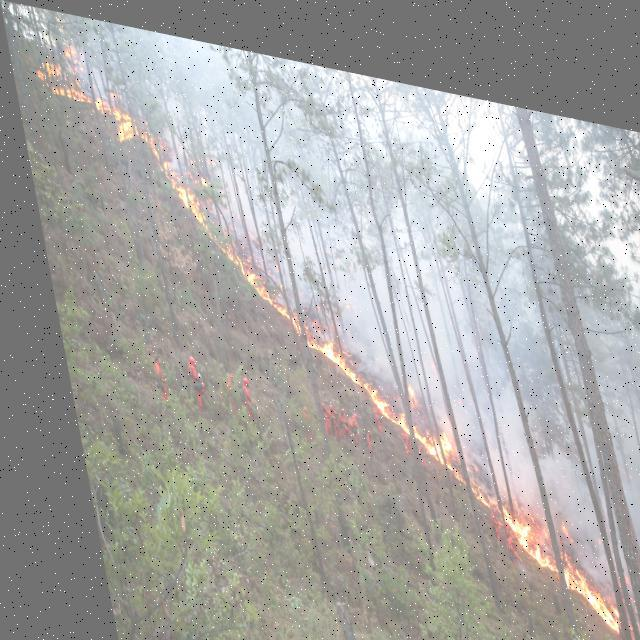Fire: (40, 39, 639, 639)
